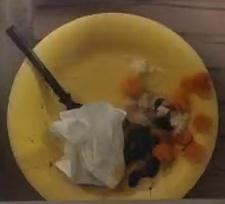black_beans: (123, 119, 160, 187)
carrots: (122, 72, 214, 187)
